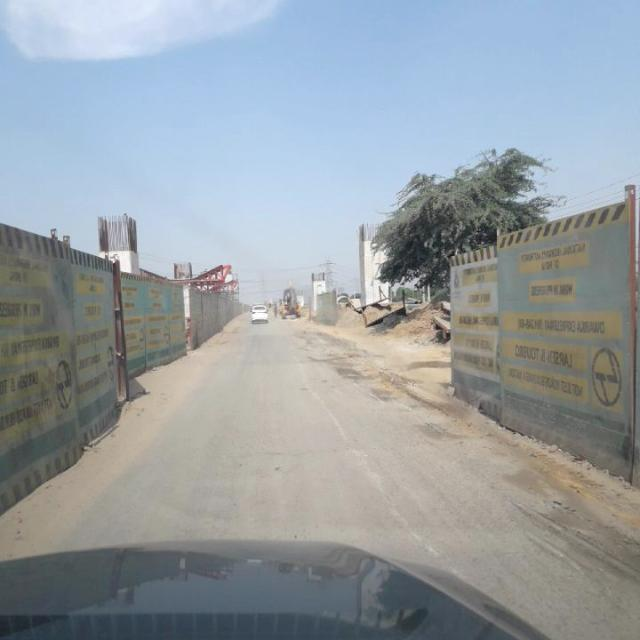crack: (306, 374, 440, 548), (508, 500, 634, 570)
